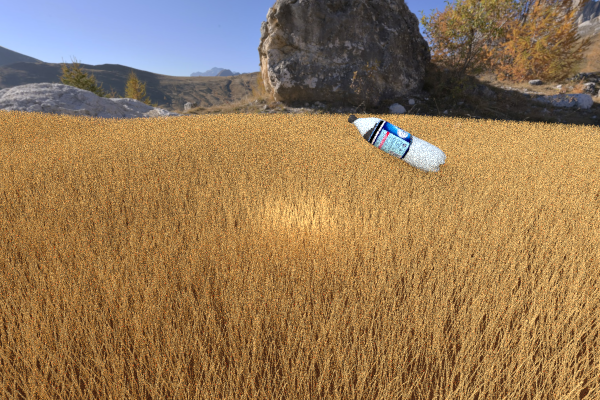bottle: (347, 114, 446, 173)
